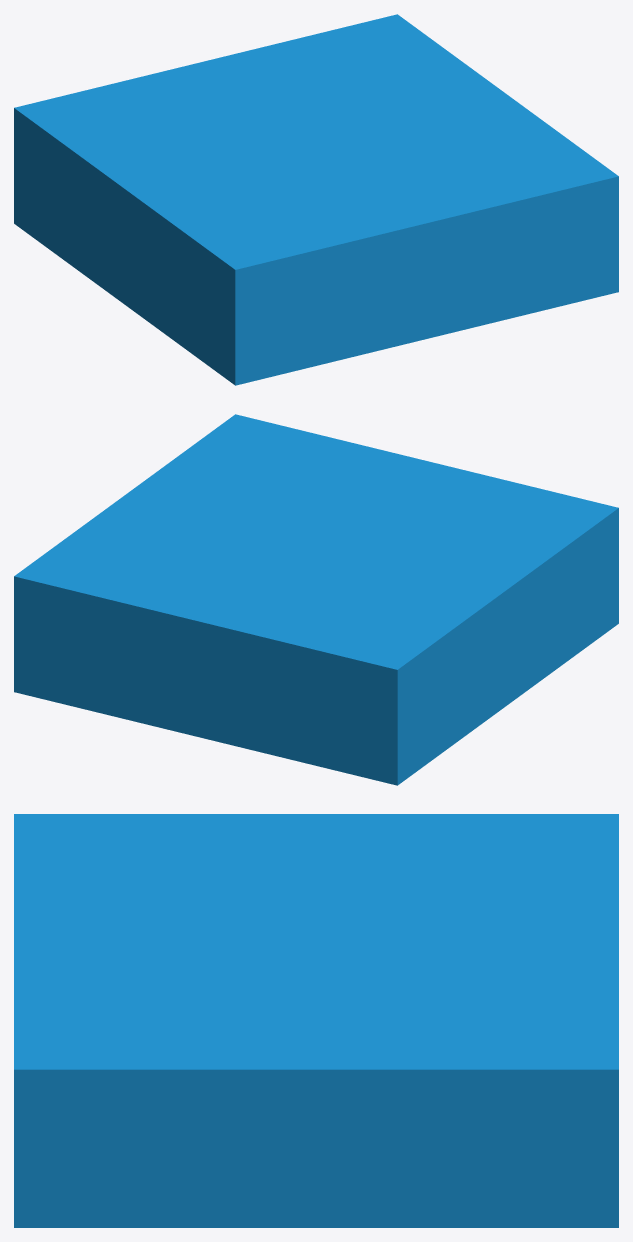
The model's file is pillow.glb.
3 views of the same model, one above another, from view 1: azimuth 30°, elevation 25°; view 2: azimuth 150°, elevation 25°; view 3: azimuth 270°, elevation 25° (orthographic). The views are drawn at different scales.
Visible parts, largest first — view 1: Cube; view 2: Cube; view 3: Cube.
Boxes of the visible parts, x1,y1,x2,y2 form: Cube: (14,14,618,385); Cube: (14,414,618,785); Cube: (14,814,618,1227).
Bounding box in the file's own units: 2 × 0.5768 × 2.
